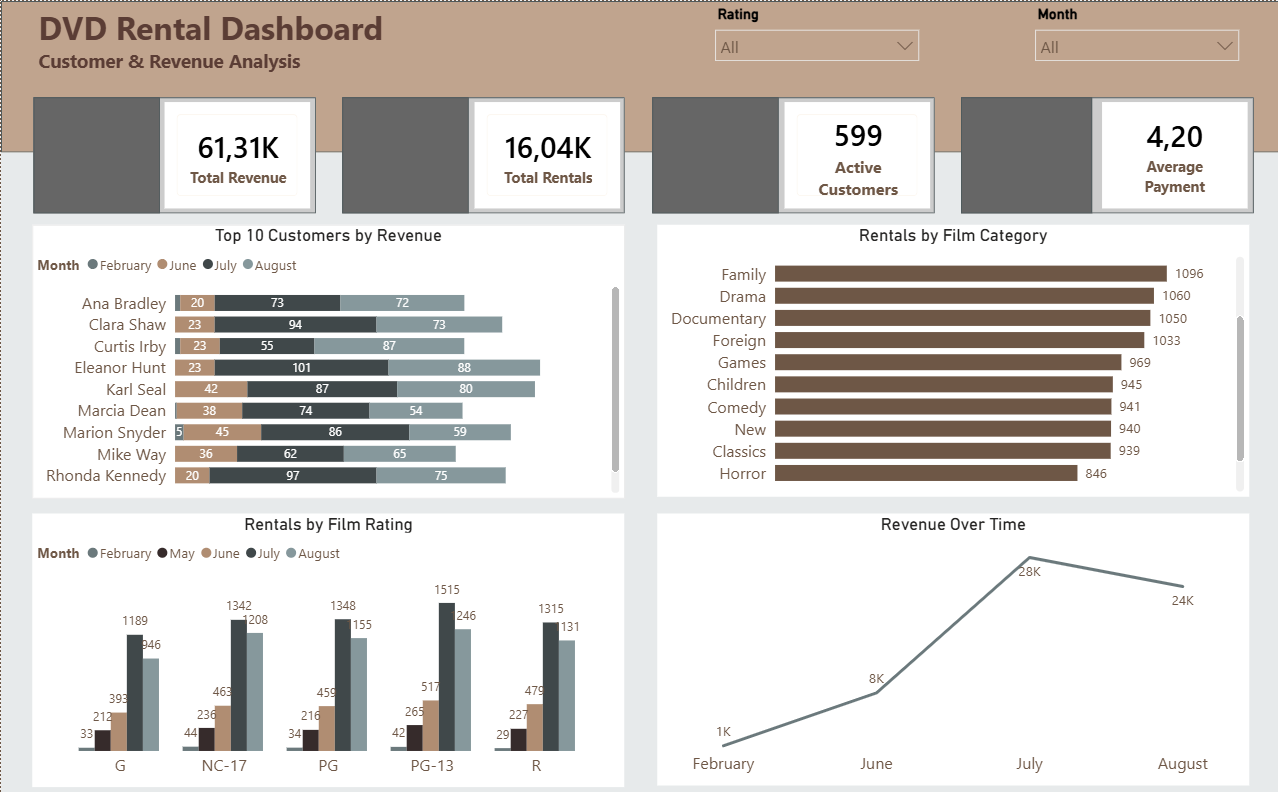

What the dashboard file says about the page in this screenshot:
{"tool":"powerbi","page":{"name":"DVD Rental Dashboard","canvas":[1280,800],"ordinal":0},"visuals":[{"type":"shape","box":[0,0,1280.3,151.6],"z":0},{"type":"shape","box":[32,96,282.5,116.3],"z":0,"group":"g1"},{"type":"shape","box":[341.3,96,282.5,116.3],"z":0,"group":"g2"},{"type":"shape","box":[650.7,96,282.5,116.3],"z":0,"group":"g4"},{"type":"shape","box":[960,96,292.8,116.3],"z":0,"group":"g6"},{"type":"textbox","box":[32,0,736,96],"z":1000},{"type":"group","id":"g1","title":"Group 1","box":[32,96,282.5,116.3],"z":1000,"group":"g3"},{"type":"shape","box":[32,96,126.6,116.3],"z":1000,"group":"g1"},{"type":"shape","box":[341.3,96,126.6,116.3],"z":1000,"group":"g2"},{"type":"shape","box":[650.7,96,126.6,116.3],"z":1000,"group":"g4"},{"type":"shape","box":[960,96,131.2,116.3],"z":1000,"group":"g6"},{"type":"group","id":"g2","title":"Group 1","box":[341.3,96,282.5,116.3],"z":2000,"group":"g9"},{"type":"barChart","title":"Top 10 Customers by Revenue","fields":{"Category":["public customer.full name"],"Y":["public category.Revenue_Smart"],"Series":["public rental.rental_date.Variation.Date Hierarchy.Month"]},"box":[30.9,224,592.4,273.4],"z":2000},{"type":"group","id":"g3","title":"Group 2","box":[32,96,288,112],"z":3000},{"type":"group","id":"g4","title":"Group 1","box":[650.7,96,283.7,116.1],"z":3000,"group":"g8"},{"type":"group","id":"g5","title":"Group 5","box":[960,96,288,112],"z":4000},{"type":"group","id":"g6","title":"Group 1","box":[960,96,292.8,116.3],"z":4000,"group":"g10"},{"type":"group","id":"g7","title":"Group 3","box":[341.3,96,288,112],"z":5000},{"type":"cardVisual","fields":{"Data":["public payment.Total Revenue"]},"box":[158.6,96,156,116.3],"z":6000,"group":"g3"},{"type":"group","id":"g8","title":"Group 4","box":[650.7,96,288,112],"z":6000},{"type":"cardVisual","fields":{"Data":["public rental.Total Rentals"]},"box":[468.8,96,156,116.3],"z":7000,"group":"g9"},{"type":"barChart","title":"Rentals by Film Category","fields":{"Category":["public category.name"],"Y":["public rental.Total Rentals"]},"box":[656,224,592,272],"z":7000},{"type":"cardVisual","fields":{"Data":["public customer.Total Customers"]},"box":[778.6,96,155.8,116.1],"z":8000,"group":"g8"},{"type":"clusteredColumnChart","title":"Rentals by Film Rating","fields":{"Category":["public film.rating"],"Y":["public rental.Total Rentals"],"Series":["public rental.rental_date.Variation.Date Hierarchy.Month"]},"box":[30.9,512,592.4,273.4],"z":8000},{"type":"cardVisual","fields":{"Data":["public category.Average_Payment_Smart"]},"box":[1096.9,96,156,116.3],"z":9000,"group":"g10"},{"type":"lineChart","title":"Revenue Over Time","fields":{"Y":["public category.Revenue_Smart"],"Category":["public rental.rental_date.Variation.Date Hierarchy.Month"]},"box":[656,512,592,272],"z":9000},{"type":"group","id":"g9","title":"Group 6","box":[341.3,96,283.5,116.3],"z":9005,"group":"g7"},{"type":"slicer","fields":{"Values":["public film.rating"]},"box":[704,0,224,64],"z":10000},{"type":"slicer","fields":{"Values":["public rental.rental_date.Variation.Date Hierarchy.Month"]},"box":[1024,0,224,64],"z":12000},{"type":"group","id":"g10","title":"Group 7","box":[960,96,292.8,116.3],"z":12001,"group":"g5"}]}

Visuals, with their boxes in screenshot pixels (x1, y1, x2, y2), scaled from the page's 1280x800 canvas onto the 1278x792 screenshot:
shape: (0,0,1277,150)
shape: (32,95,314,210)
shape: (341,95,623,210)
shape: (650,95,932,210)
shape: (958,95,1251,210)
textbox: (32,0,767,95)
"Group 1" group: (32,95,314,210)
shape: (32,95,158,210)
shape: (341,95,467,210)
shape: (650,95,776,210)
shape: (958,95,1089,210)
"Group 1" group: (341,95,623,210)
"Top 10 Customers by Revenue" barChart: (31,222,622,492)
"Group 2" group: (32,95,320,206)
"Group 1" group: (650,95,933,210)
"Group 5" group: (958,95,1246,206)
"Group 1" group: (958,95,1251,210)
"Group 3" group: (341,95,628,206)
cardVisual - public payment.Total Revenue: (158,95,314,210)
"Group 4" group: (650,95,937,206)
cardVisual - public rental.Total Rentals: (468,95,624,210)
"Rentals by Film Category" barChart: (655,222,1246,491)
cardVisual - public customer.Total Customers: (777,95,933,210)
"Rentals by Film Rating" clusteredColumnChart: (31,507,622,778)
cardVisual - public category.Average_Payment_Smart: (1095,95,1251,210)
"Revenue Over Time" lineChart: (655,507,1246,776)
"Group 6" group: (341,95,624,210)
slicer - public film.rating: (703,0,927,63)
slicer - public rental.rental_date.Variation.Date Hierarchy.Month: (1022,0,1246,63)
"Group 7" group: (958,95,1251,210)
